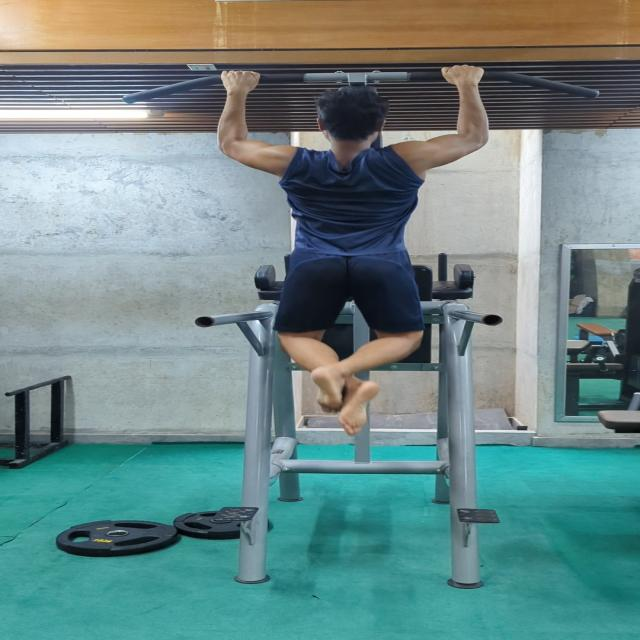Normal_PullUps: (214, 63, 496, 434)
